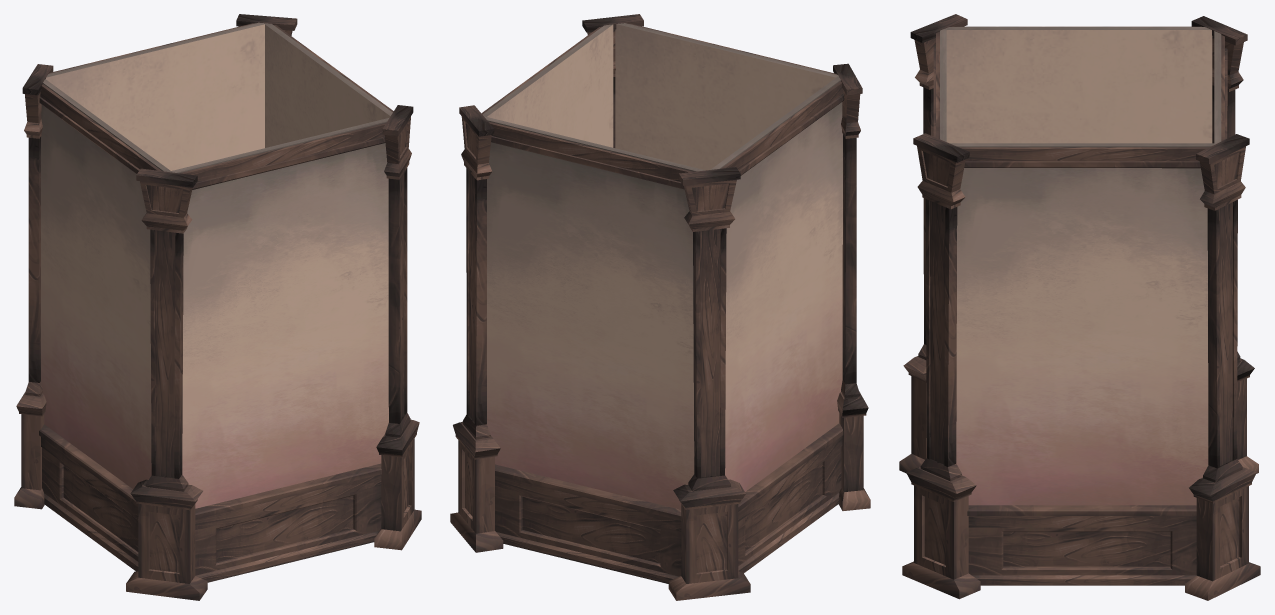
The model's file is Wall_Full_Pillar_V1.fbx.
3 renders of one model, left to right at view 1: azimuth 30°, elevation 25°; view 2: azimuth 150°, elevation 25°; view 3: azimuth 270°, elevation 25°, orthographic. The views are drawn at different scales.
Parts seen in each view (by area): view 1: Pillar_Full; view 2: Pillar_Full; view 3: Pillar_Full.
Boxes of the visible parts, bbox=[...] form: Pillar_Full: bbox=[14, 14, 421, 600]; Pillar_Full: bbox=[450, 14, 870, 600]; Pillar_Full: bbox=[899, 14, 1260, 600].
Size of the model in its own units: 0.0319 by 0.0422 by 0.0316.
